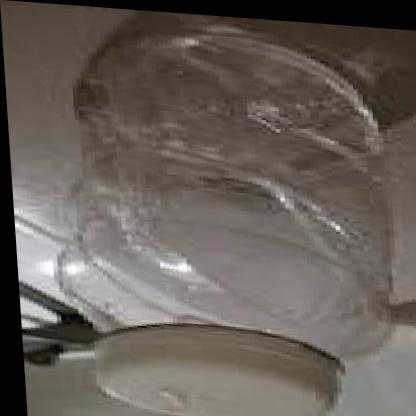Plastic: (41, 18, 406, 416)
